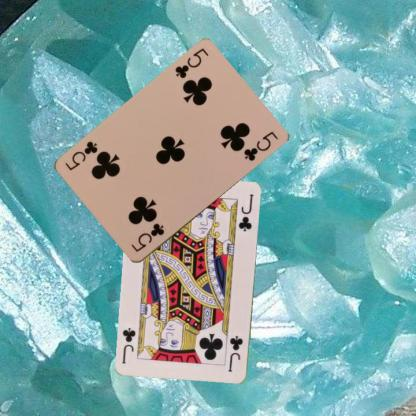5c: (128, 220, 166, 254), (172, 46, 210, 80)
Jc: (226, 333, 244, 374)
